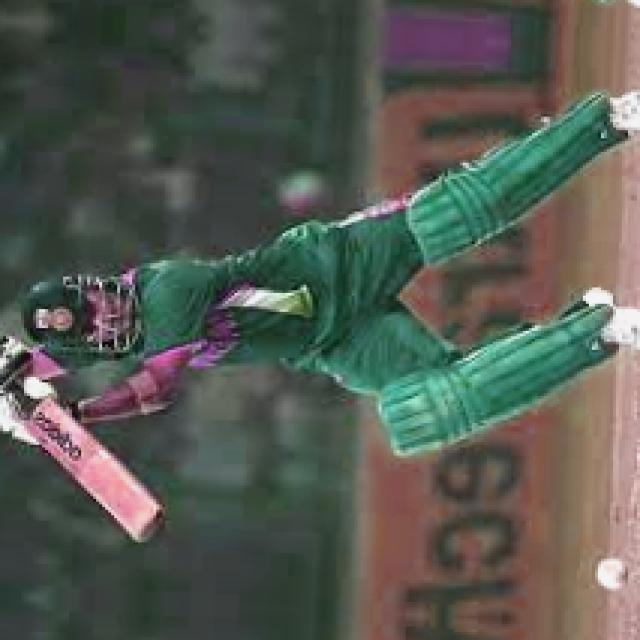bat: (1, 383, 203, 564)
toe: (119, 510, 176, 551)
